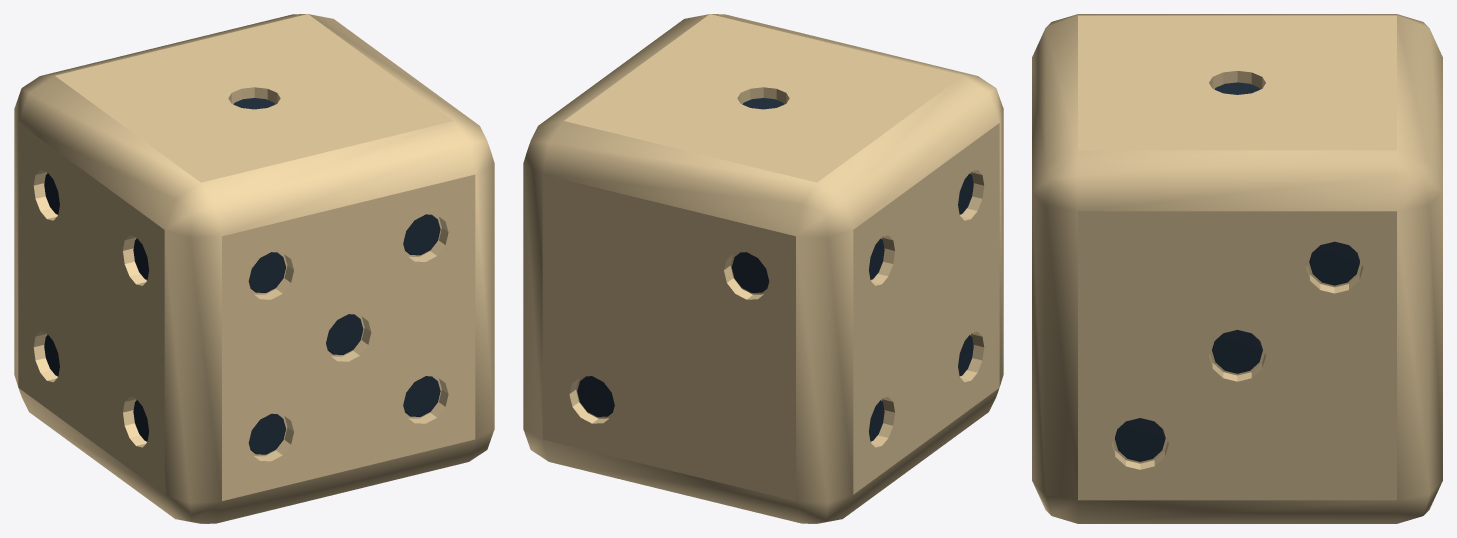
File: lucky_die.glb
The picture shows the model from 3 angles, left to right: view 1: azimuth 30°, elevation 25°; view 2: azimuth 150°, elevation 25°; view 3: azimuth 270°, elevation 25°; orthographic projection. The views are drawn at different scales.
Visible parts, largest first — view 1: lucky_die_runtime; view 2: lucky_die_runtime; view 3: lucky_die_runtime.
Part boxes in pixels (x1,y1,x2,y2): lucky_die_runtime: (14,14,494,523); lucky_die_runtime: (523,14,1003,523); lucky_die_runtime: (1032,14,1442,523).
Bounding box in the file's own units: 1.3 × 1.3 × 1.3.
1 material, 1 textured.
